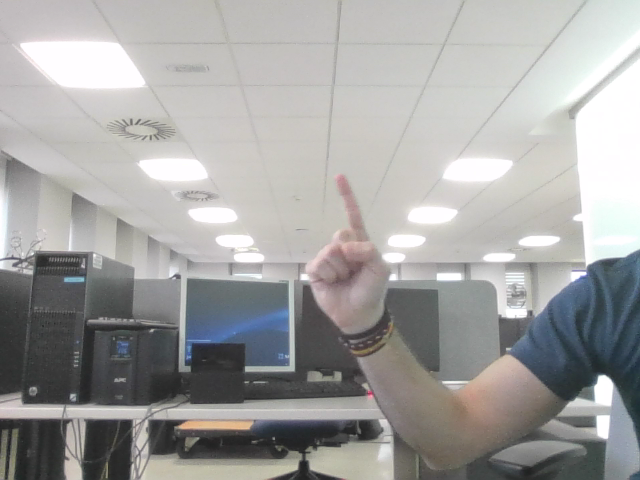1Dedo: (318, 185, 376, 290)
